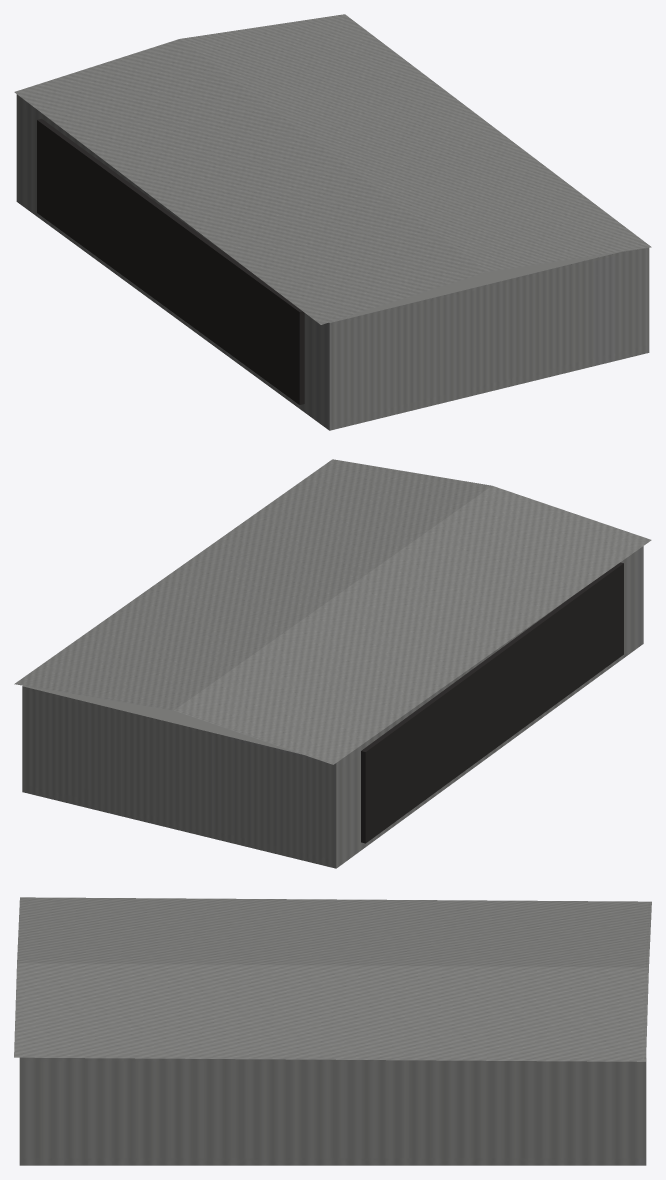
Rendered from sdsc_mro_hangar.leve.glb.
3 views of the same model, one above another, from view 1: azimuth 30°, elevation 25°; view 2: azimuth 150°, elevation 25°; view 3: azimuth 270°, elevation 25° (orthographic).
Parts seen in each view (by area): view 1: sdsc_mro_hangar; view 2: sdsc_mro_hangar; view 3: sdsc_mro_hangar.
Part boxes in pixels (x1,y1,x2,y2): sdsc_mro_hangar: [14, 14, 651, 430]; sdsc_mro_hangar: [14, 459, 651, 868]; sdsc_mro_hangar: [14, 897, 651, 1165].
Bounding box in the file's own units: 62.14 × 21.5 × 102.
Materials: 5 (1 with a texture image).
